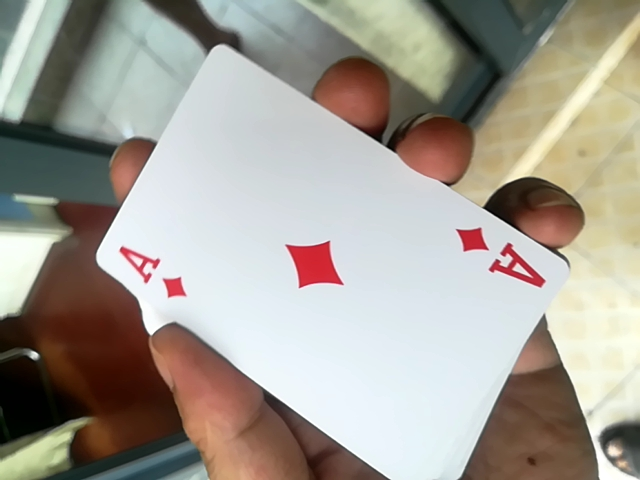fk a: (91, 19, 546, 475)
